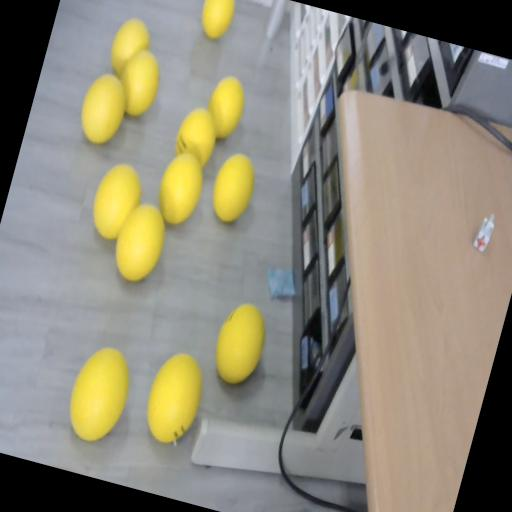FUEL: (59, 339, 138, 447), (136, 345, 211, 449), (207, 296, 273, 388), (106, 196, 173, 286), (83, 156, 149, 246), (72, 68, 134, 150), (150, 147, 210, 228), (205, 148, 261, 226), (110, 45, 166, 122), (200, 72, 250, 142), (195, 0, 240, 41)
